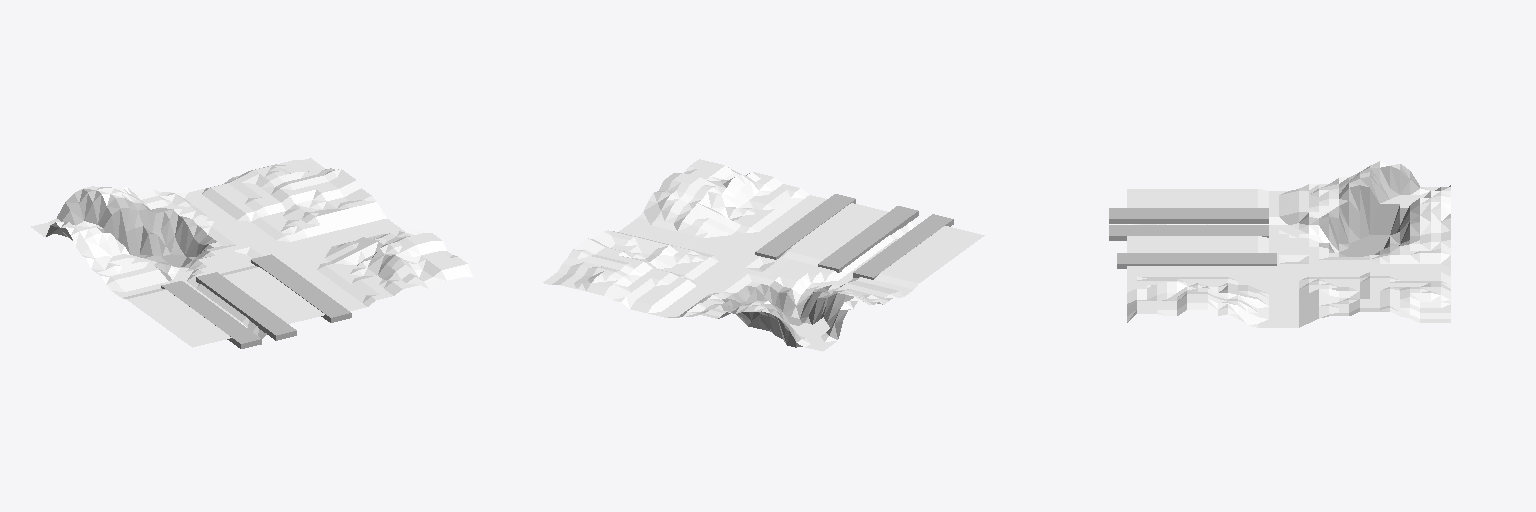
Rendered from crossroads_1.obj.
3 renders of one model, left to right at view 1: azimuth 30°, elevation 25°; view 2: azimuth 150°, elevation 25°; view 3: azimuth 270°, elevation 25°, orthographic.
Parts seen in each view (by area): view 1: forest_1, lake, road, alphamod_50, wheat, stream; view 2: forest_1, road, alphamod_50, lake, wheat, stream; view 3: forest_1, lake, alphamod_50, road, wheat, stream.
Part boxes in pixels (left/top/right/bottom): forest_1: left=56, top=158, right=472, bottom=347; lake: left=46, top=189, right=216, bottom=280; road: left=116, top=188, right=401, bottom=310; alphamod_50: left=161, top=254, right=351, bottom=348; wheat: left=132, top=267, right=315, bottom=337; stream: left=31, top=218, right=266, bottom=338; forest_1: left=543, top=159, right=984, bottom=318; road: left=619, top=195, right=912, bottom=317; alphamod_50: left=755, top=194, right=953, bottom=279; lake: left=721, top=281, right=853, bottom=347; wheat: left=787, top=210, right=964, bottom=286; stream: left=790, top=222, right=913, bottom=351; forest_1: left=1127, top=161, right=1450, bottom=327; lake: left=1280, top=164, right=1450, bottom=256; alphamod_50: left=1109, top=208, right=1276, bottom=268; road: left=1127, top=191, right=1450, bottom=327; wheat: left=1147, top=193, right=1268, bottom=252; stream: left=1127, top=187, right=1439, bottom=252.
Size of the model in its own units: 101 by 18.05 by 106.